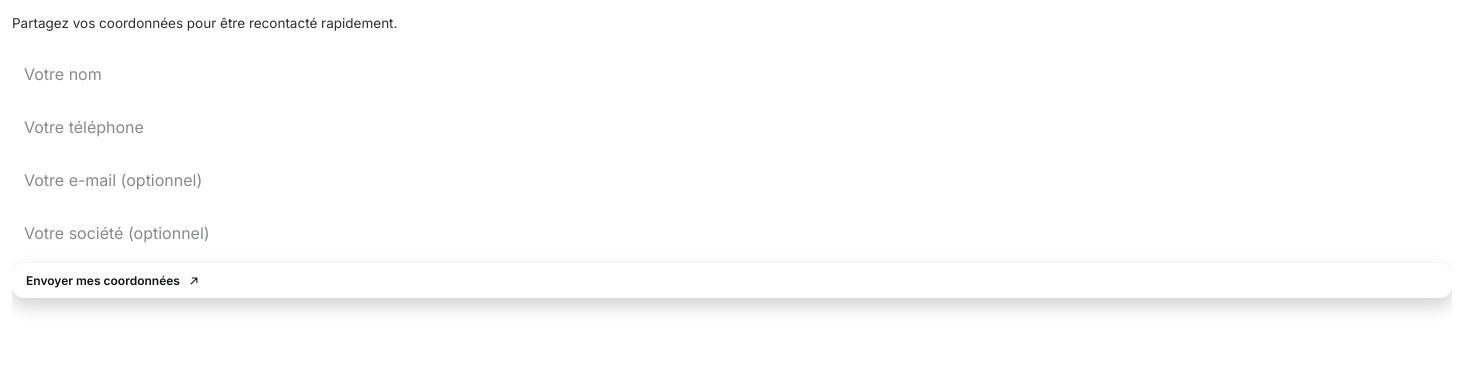
Test: RappelView › bloque l'envoi réseau en mode aperçu (/espace-client)
The width and height of the screenshot is (1464, 370).
Type "Moussa Diop" into the field named "nom" at (732, 75), box x1=12 y1=52 x2=1452 y2=97
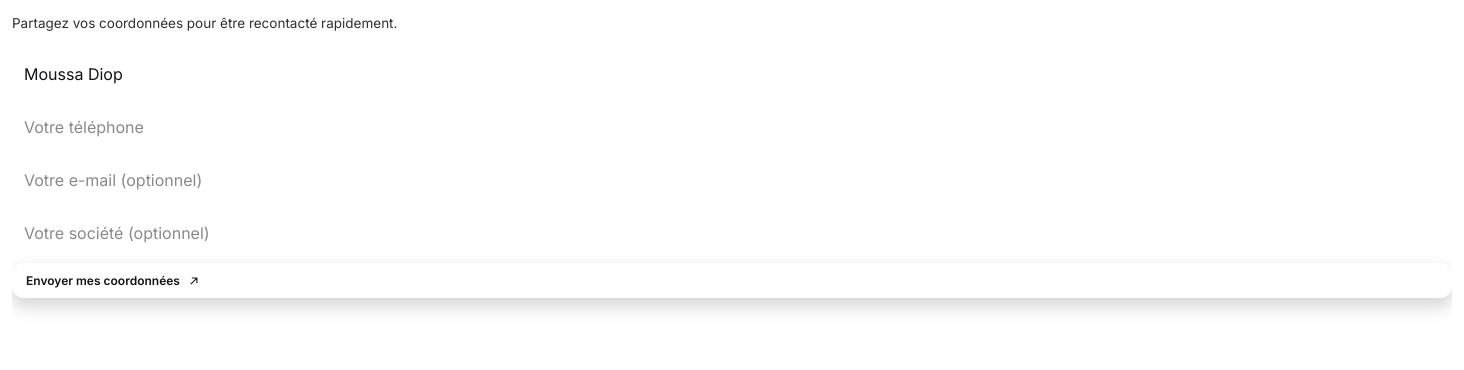
Type "+221 77 123 45 67" into the field named "telephone" at (732, 128), box x1=12 y1=105 x2=1452 y2=150
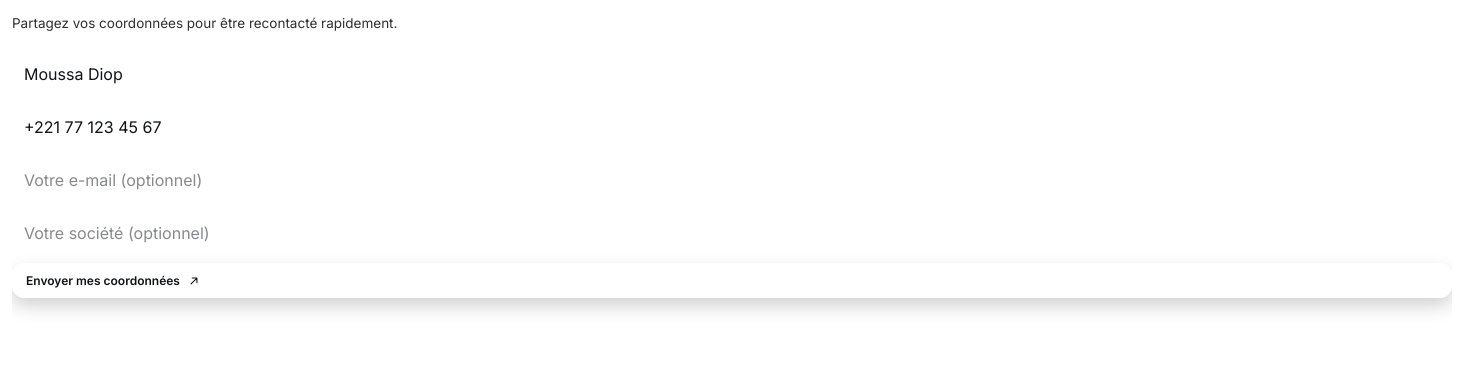
Submit the form
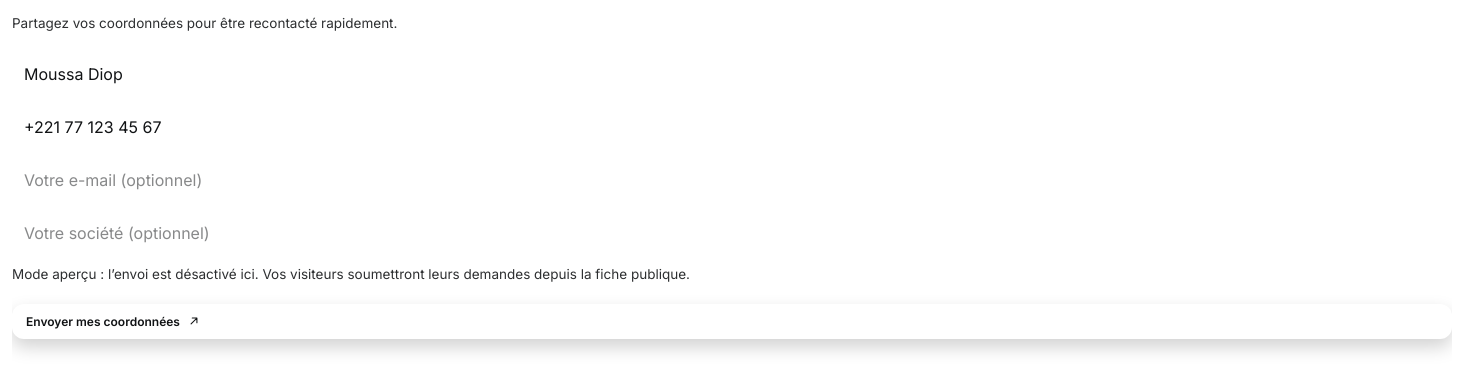
Result: the text "Mode aperçu" is shown at x1=12 y1=266 x2=690 y2=282
